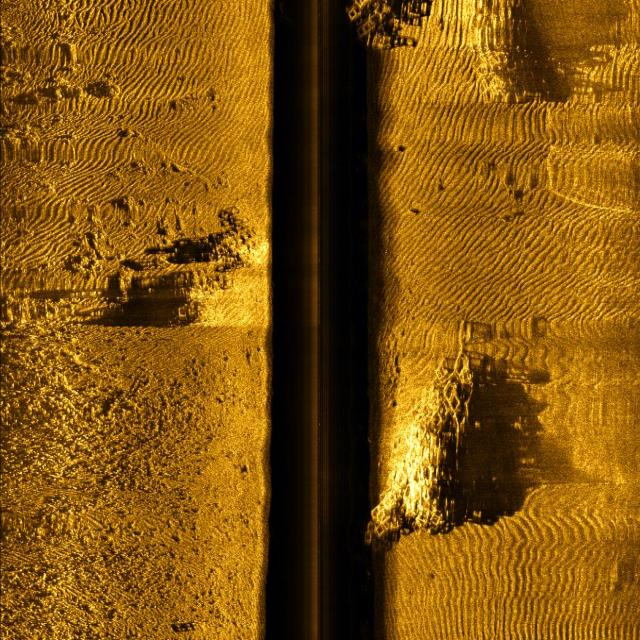artificial reef: (352, 310, 505, 555), (339, 0, 425, 46)
